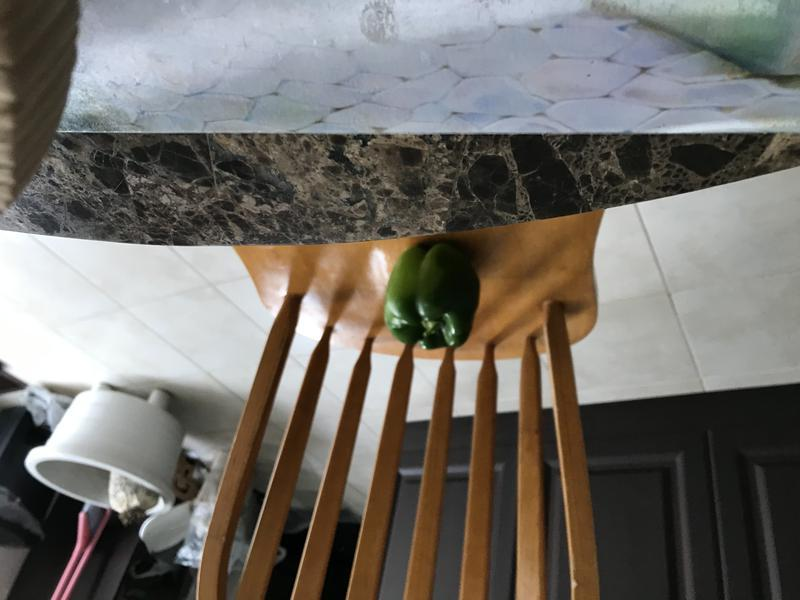green_pepper: (381, 229, 485, 357)
